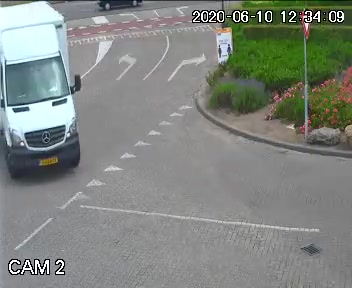car: (0, 5, 103, 182), (75, 0, 147, 12)
